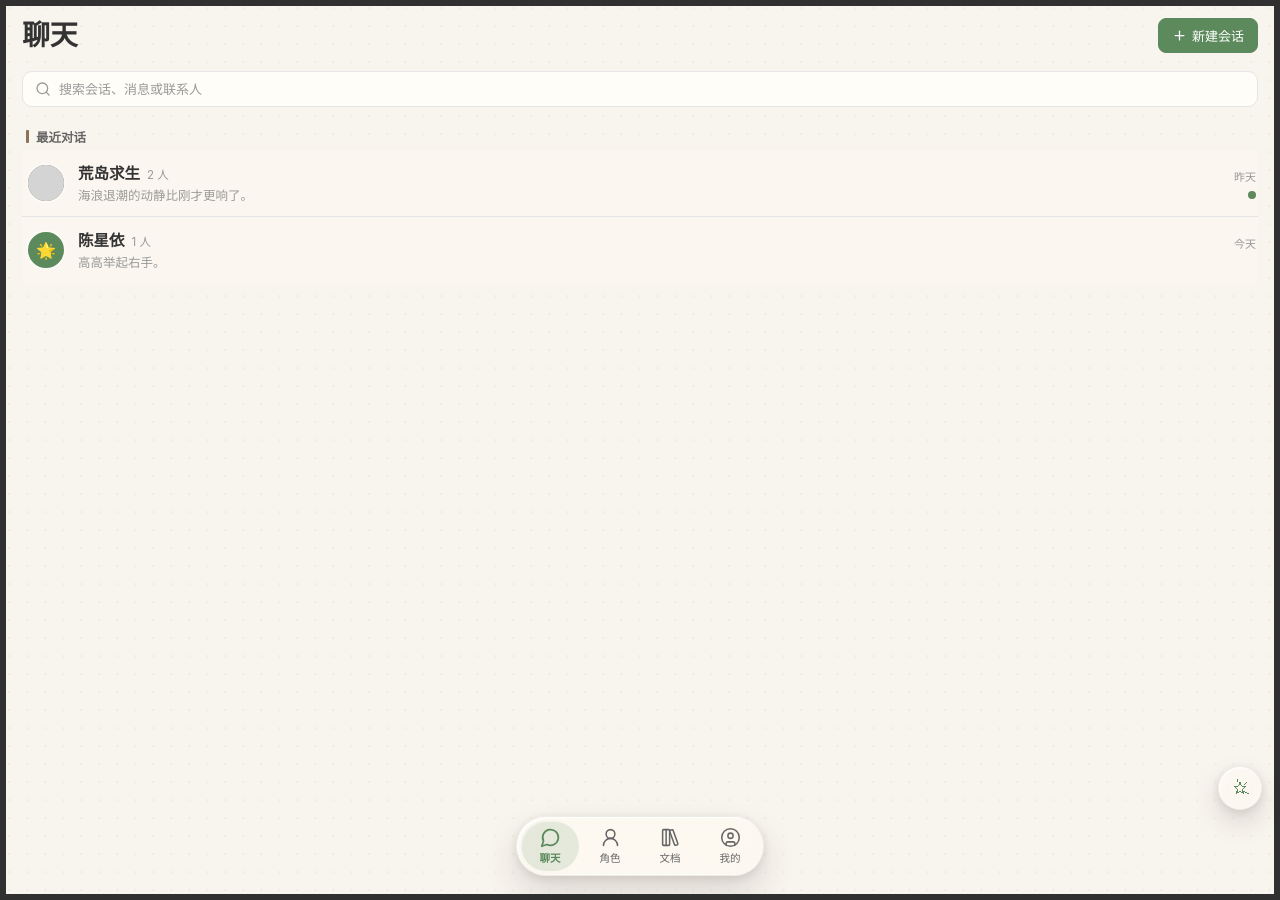
MobileWorkspaceShell › renders real chat session rows and switches sessions through real actions
What coordinates should you click on to do the following:
click the button with class "mobile-flow-row" showing "🌟 陈星依 1 人 高高举起右手。 今天"
I would click on:
 (46, 250)
Its box is [22,217,1260,283].
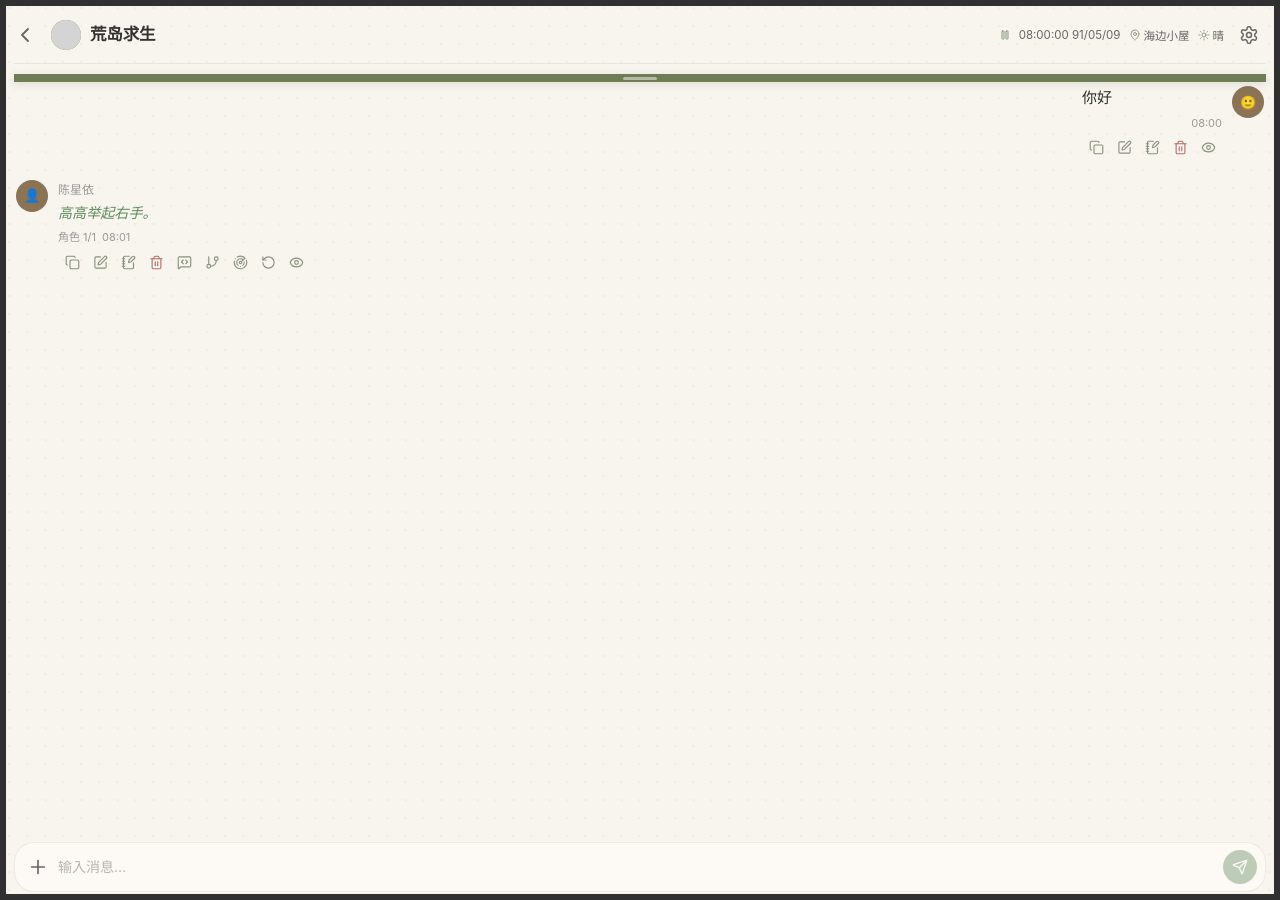
expect the text "高高举起右手。" is shown: met, box [58,204,157,221]
expect the text "海边小屋" is shown: met, box [1128,27,1190,43]
